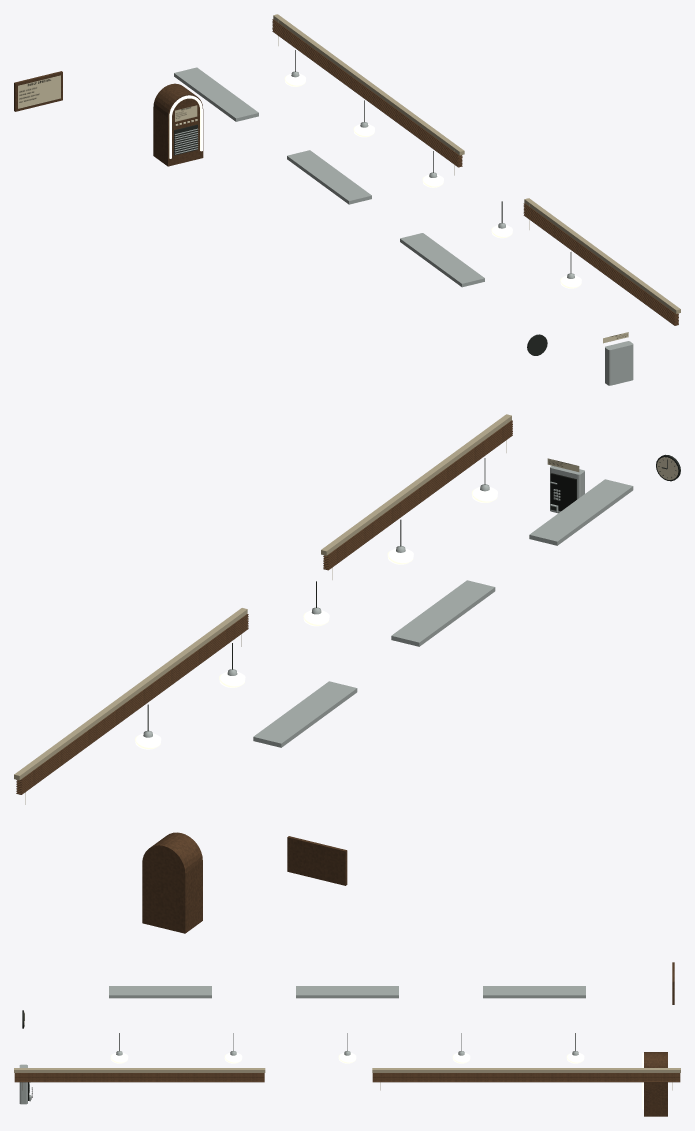
The model's file is SM_Mesa_Fixtures.fbx.
3 renders of one model, top to bottom at view 1: azimuth 30°, elevation 25°; view 2: azimuth 150°, elevation 25°; view 3: azimuth 270°, elevation 25°, orthographic. The views are drawn at different scales.
Visible parts, largest first — view 1: SM_Mesa_Fixtures; view 2: SM_Mesa_Fixtures; view 3: SM_Mesa_Fixtures.
Part boxes in pixels (x1,y1,x2,y2): SM_Mesa_Fixtures: [14, 14, 680, 385]; SM_Mesa_Fixtures: [14, 414, 680, 933]; SM_Mesa_Fixtures: [14, 962, 680, 1116].
Bounding box in the file's own units: 6.84 × 17.84 × 3.09.
